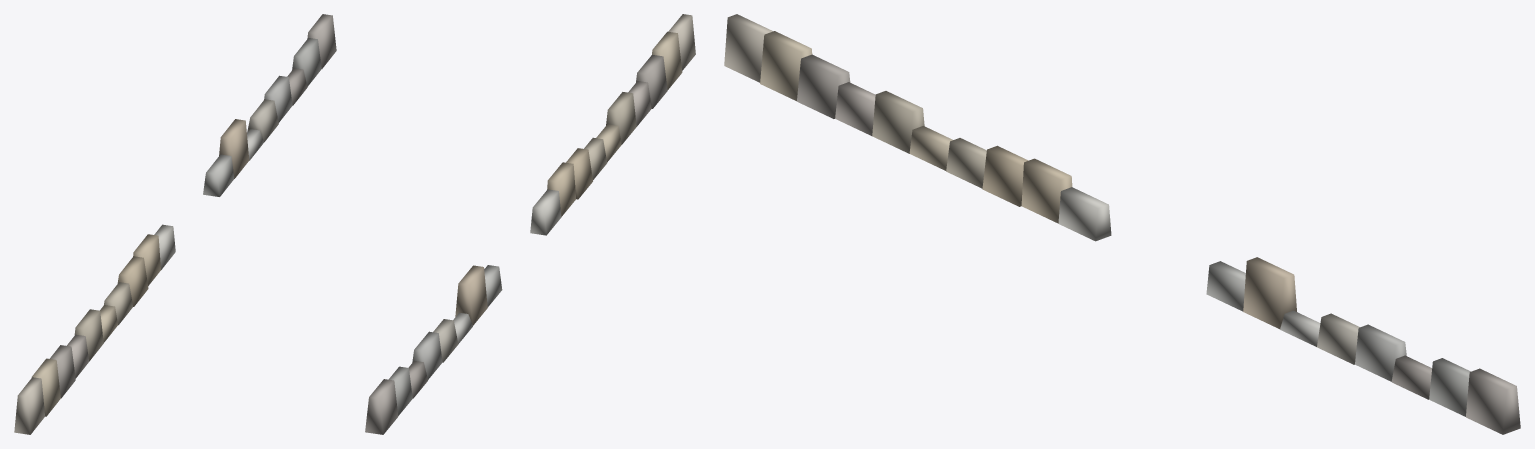
Rendered from farm_3_-5_collision.glb.
3 renders of one model, left to right at view 1: azimuth 30°, elevation 25°; view 2: azimuth 210°, elevation 25°; view 3: azimuth 270°, elevation 25°, orthographic. The views are drawn at different scales.
Parts seen in each view (by area): view 1: geometry_0; view 2: geometry_0; view 3: geometry_0.
Boxes of the visible parts, x1=… form: geometry_0: x1=14, y1=14, x2=336, y2=434; geometry_0: x1=365, y1=14, x2=695, y2=434; geometry_0: x1=724, y1=14, x2=1520, y2=434.
Size of the model in its own units: 25.52 by 1.73 by 22.39.
